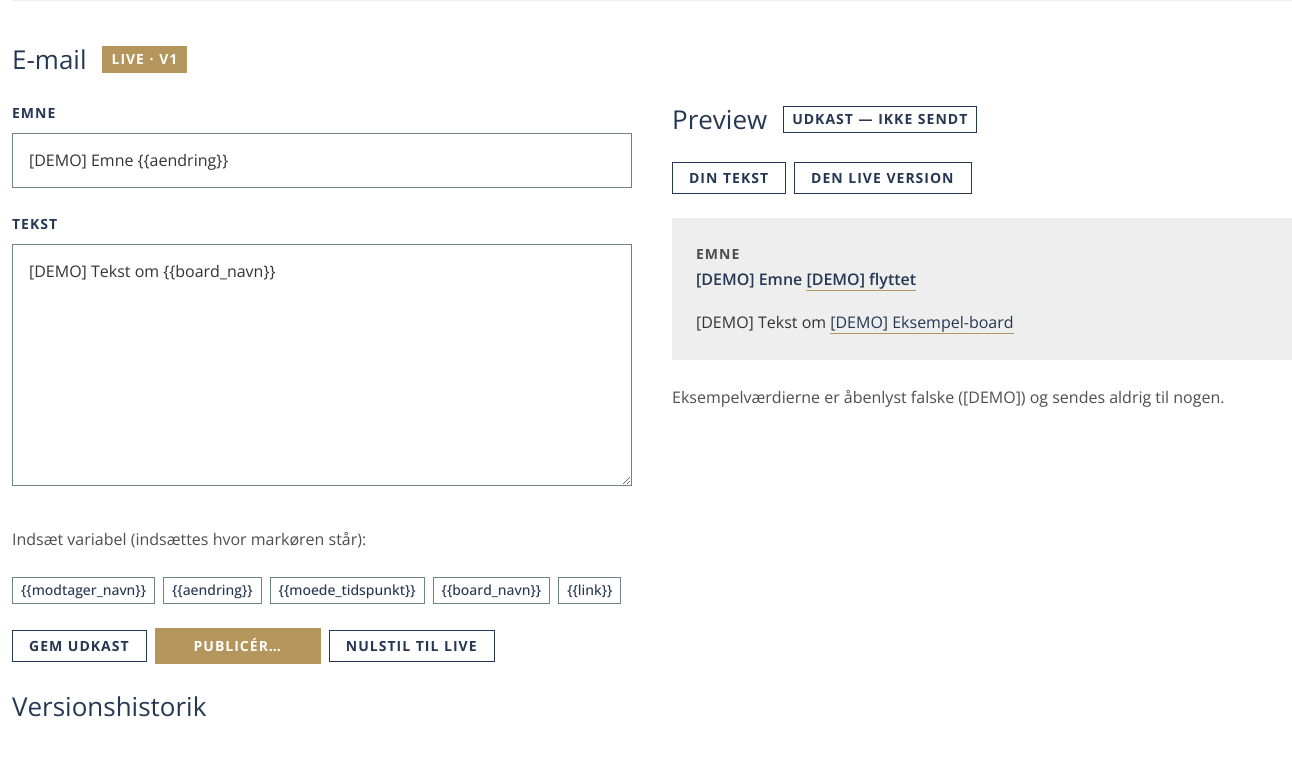
TemplateEditor — live preview (eksplicit krav) › indsætter i emnet når emnefeltet sidst havde fokus
Clear the field labelled "Emne" at x=322, y=161, box left=12, top=133, right=632, bottom=188
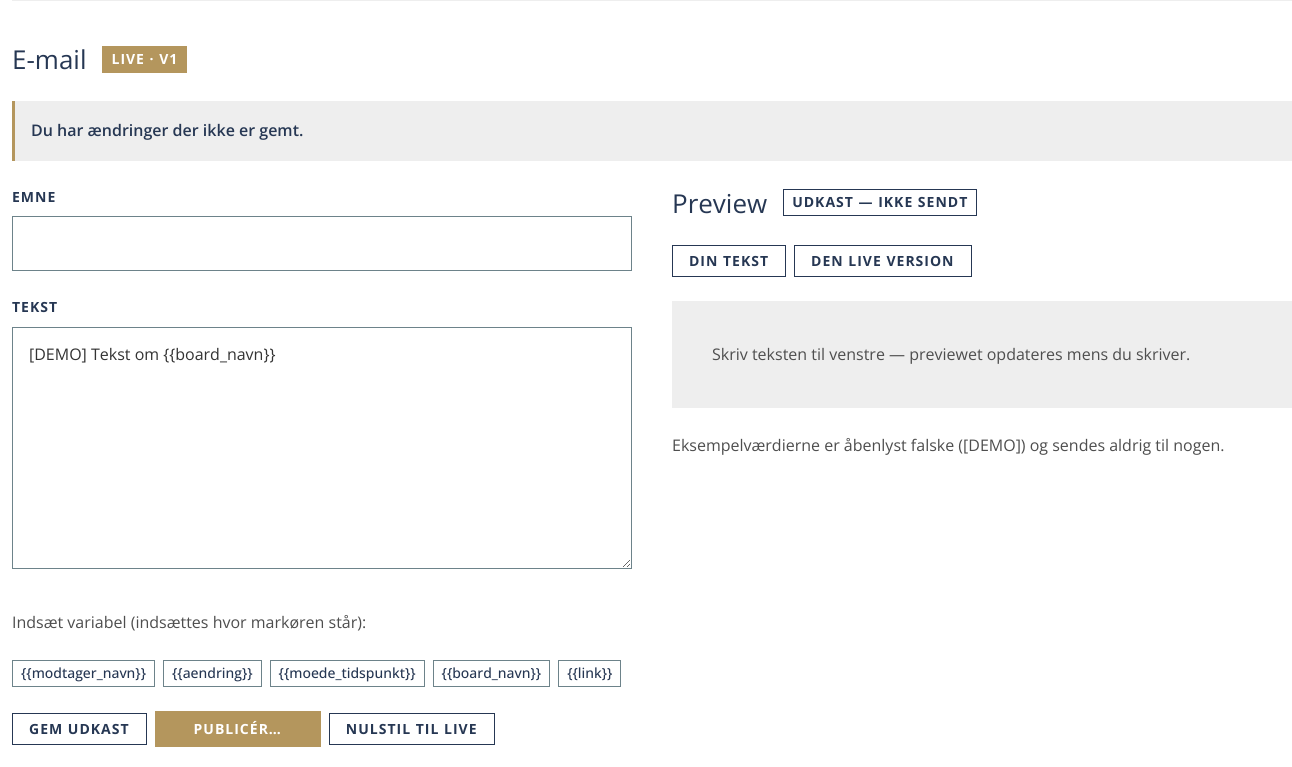
Click the button "{{aendring}}" at x=212, y=674, box left=163, top=660, right=262, bottom=687
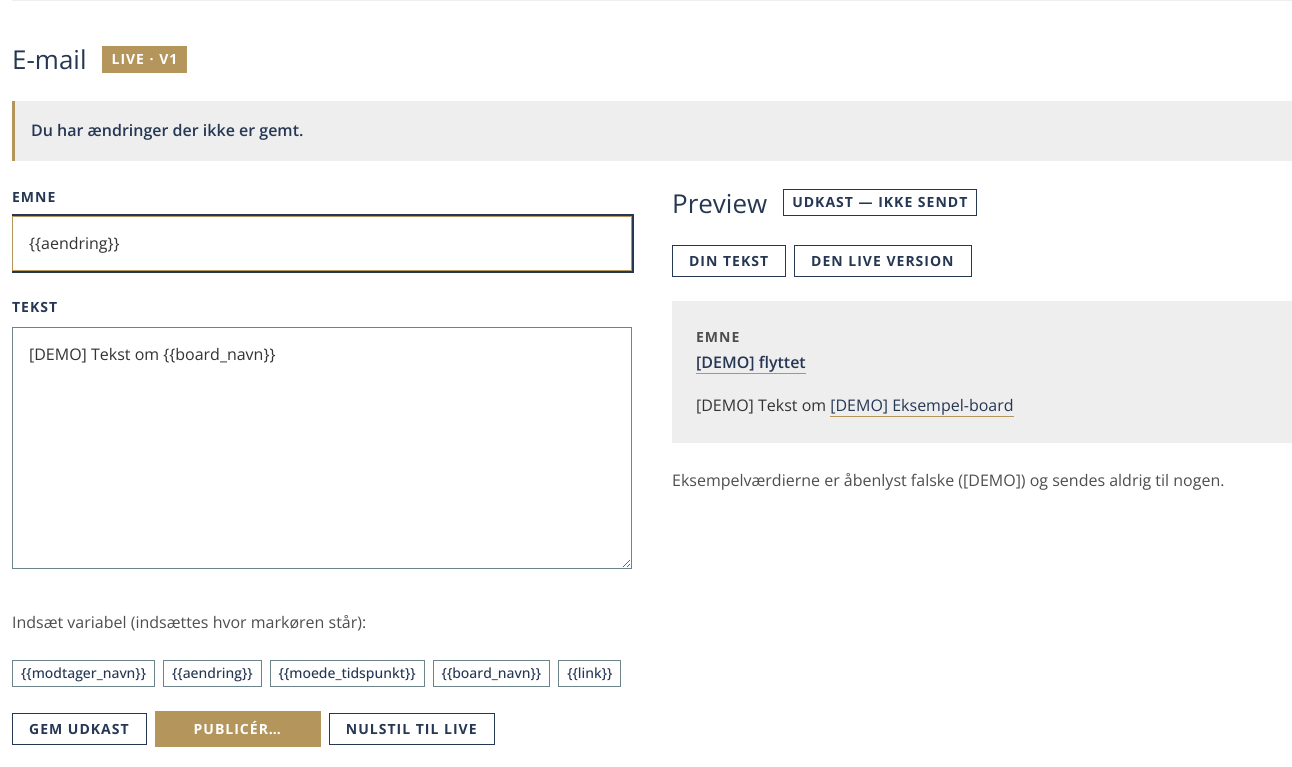
Now the field labelled "Emne" holds "{{aendring}}", box left=12, top=216, right=632, bottom=271
